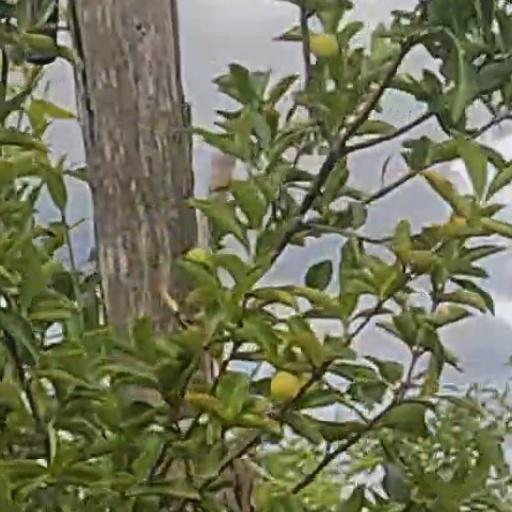acerola: (270, 372, 297, 397), (310, 34, 335, 58)
